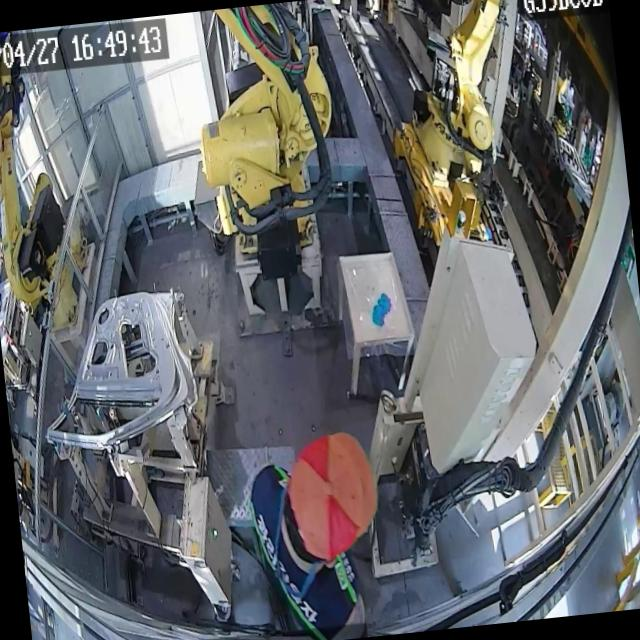Person: (241, 427, 392, 640)
